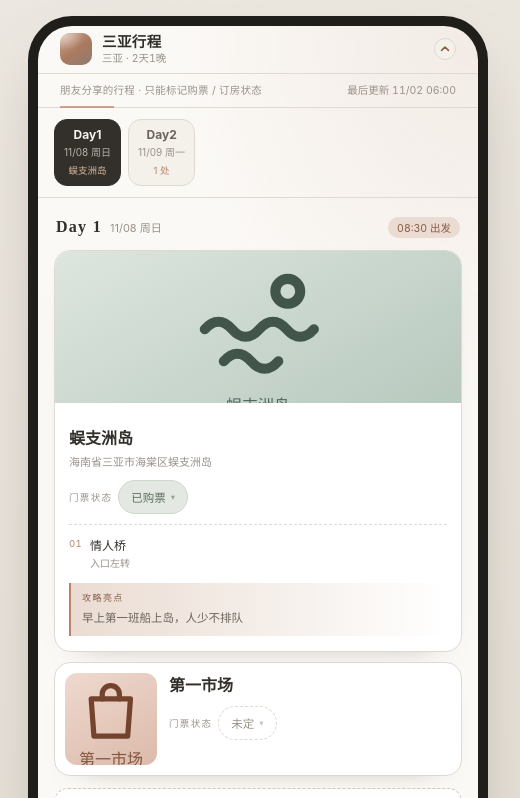
ShareView 只读分享页（Task #205） › 切换 Day 后只展示当天内容，未安排住宿时给出提示
The image size is (520, 798).
Expected: the button with aria-label "行程封面：" is shown, top-left (38, 26), bottom-right (478, 74)
Expected: the heading "蜈支洲岛" is shown, top-left (69, 428), bottom-right (133, 449)
Click the button "Day2 11/09 周一 1 处".
click(162, 152)  # box top-left (128, 119), bottom-right (195, 186)
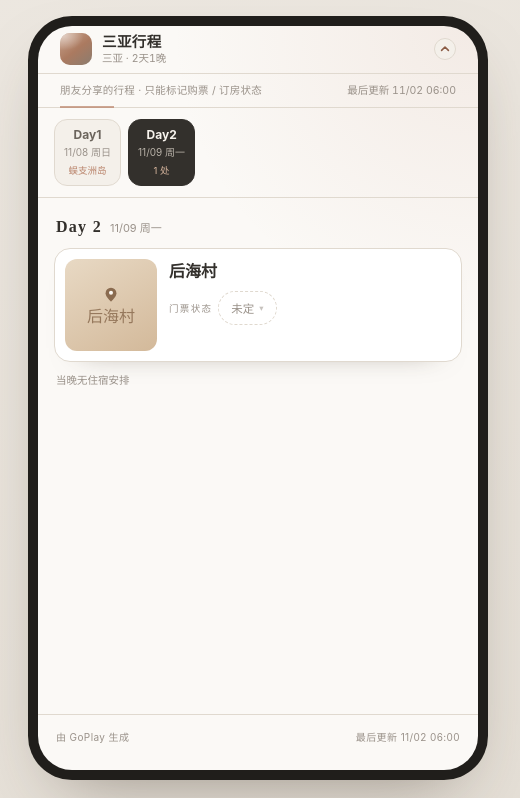
Expected: the heading "后海村" is shown, top-left (169, 261), bottom-right (217, 282)
Expected: the text "当晚无住宿安排" is shown, top-left (56, 374), bottom-right (130, 387)
